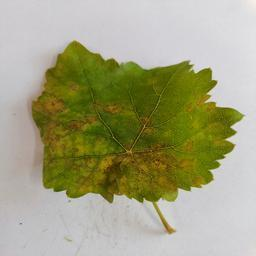Powdery-Mildew: (45, 113, 107, 173), (139, 147, 195, 185), (36, 73, 73, 117), (177, 96, 217, 131), (96, 99, 134, 117), (119, 66, 136, 82), (209, 140, 225, 157)
